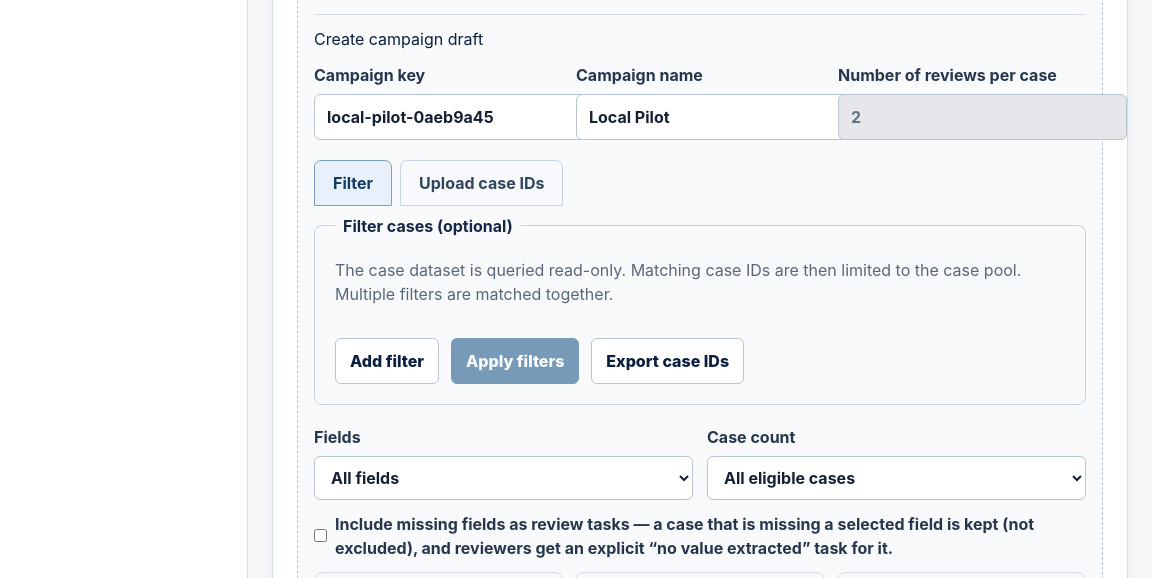
Test case: admin dashboard campaign availability › keeps case ID export disabled when an applied filter has no matches
The image size is (1164, 578).
(page scrolled)
Click the button "Add filter" at (387, 361), box [335,338,439,384]
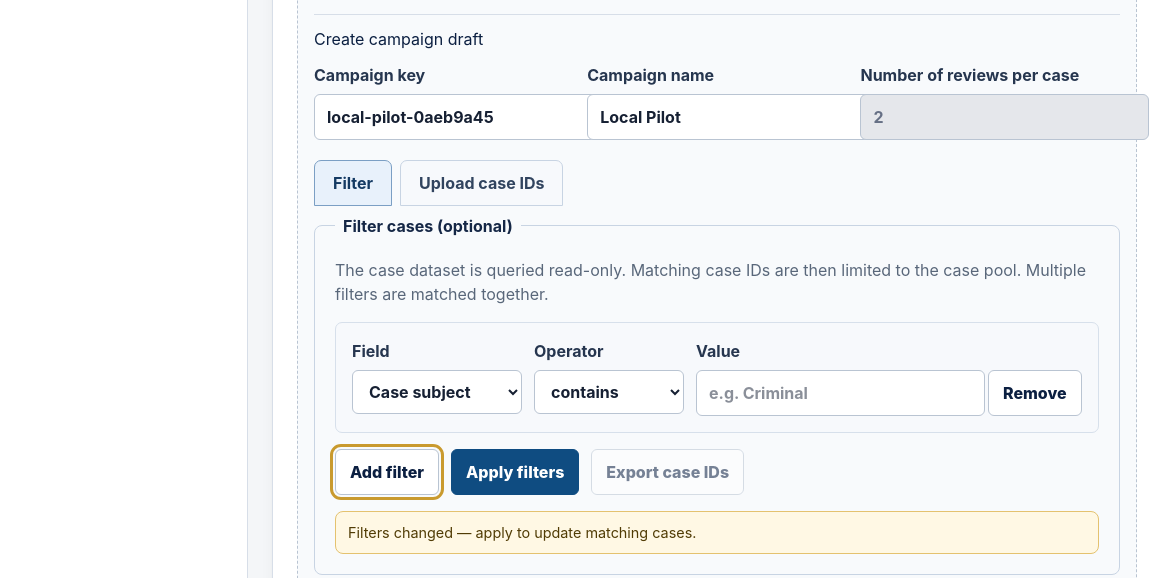
Type "No matches" into the field with placeholder "e.g. Criminal" at (840, 393), box [696,370,985,416]
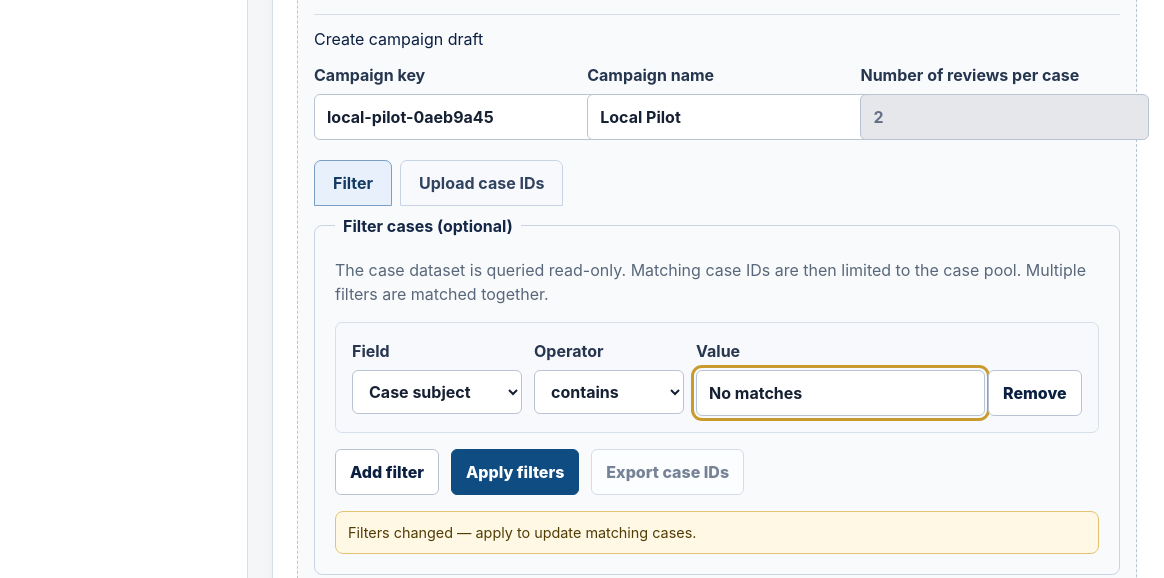
Click the button "Apply filters" at (515, 472), box [451,449,579,495]
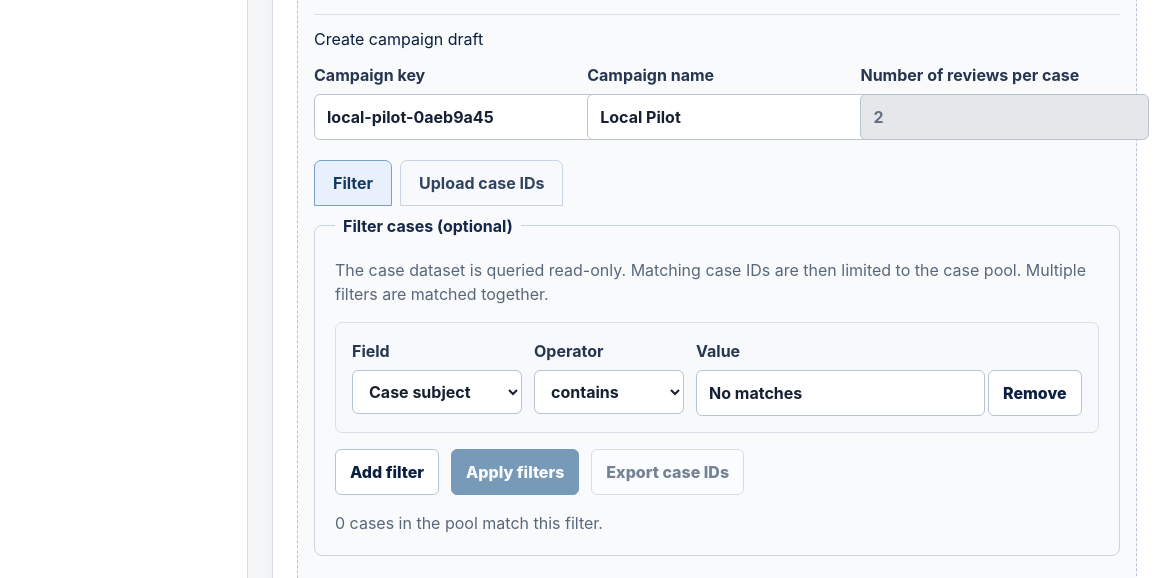
Result: the button "Export case IDs" is disabled at [591,449,744,495]
Result: the text "0 cases in the pool match this filter." is shown at [335,513,603,533]
